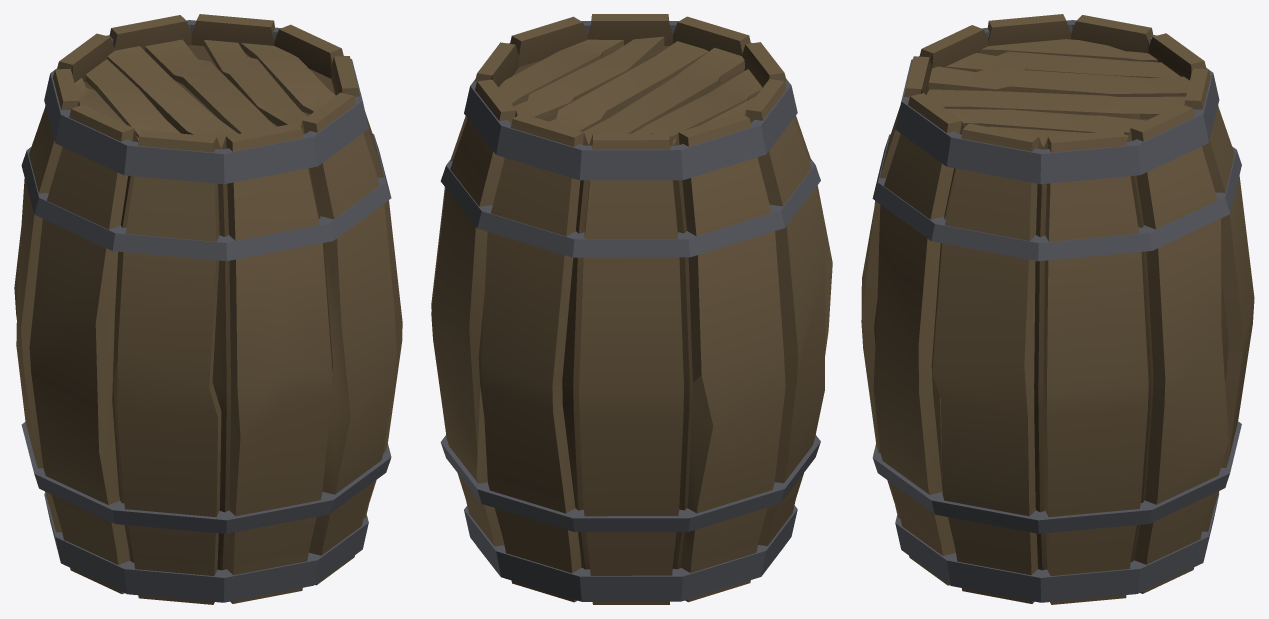
File: Barrel.glb
The picture shows the model from 3 angles, left to right: view 1: azimuth 30°, elevation 25°; view 2: azimuth 150°, elevation 25°; view 3: azimuth 270°, elevation 25°; orthographic projection.
Visible parts, largest first — view 1: Barrel; view 2: Barrel; view 3: Barrel.
Part boxes in pixels (box(x1,y1,x2,y2)): Barrel: box(14, 14, 402, 604); Barrel: box(431, 14, 832, 604); Barrel: box(861, 14, 1254, 604).
Size of the model in its own units: 0.8314 by 1.07 by 0.8241.
